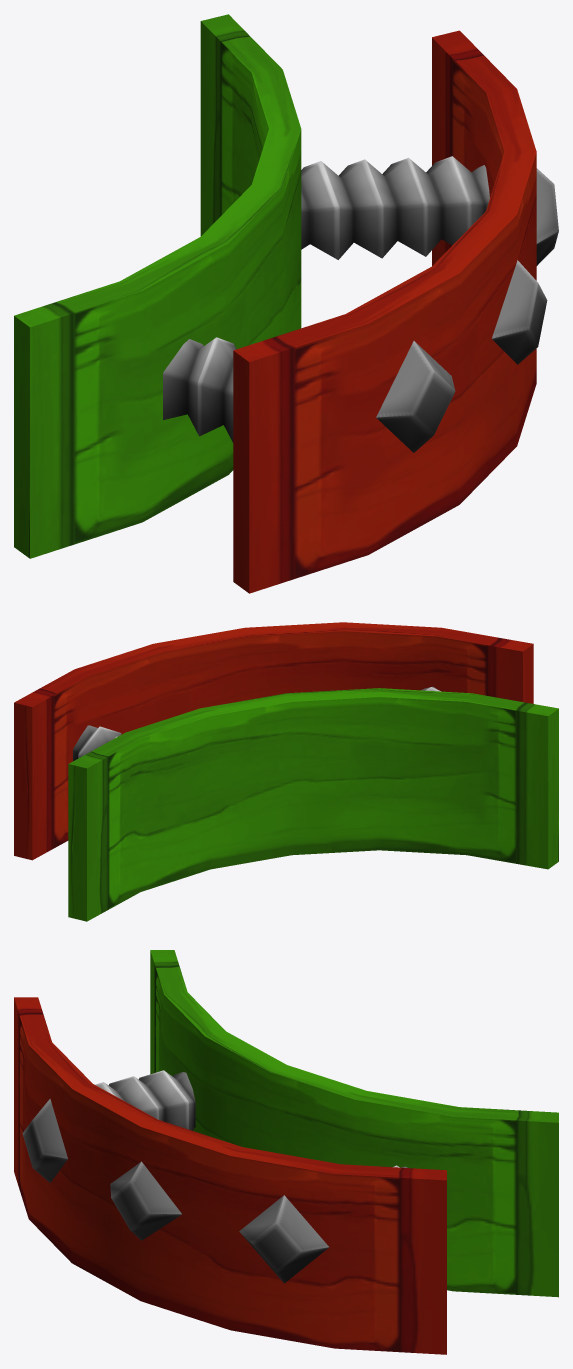
File: arched_fence_burger_02.fbx
3 renders of one model, top to bottom at view 1: azimuth 30°, elevation 25°; view 2: azimuth 150°, elevation 25°; view 3: azimuth 270°, elevation 25°, orthographic. The views are drawn at different scales.
Visible parts, largest first — view 1: arched_fence_burger_02; view 2: arched_fence_burger_02; view 3: arched_fence_burger_02.
Part boxes in pixels (x1,y1,x2,y2): arched_fence_burger_02: (14,14,558,593); arched_fence_burger_02: (14,622,558,921); arched_fence_burger_02: (14,950,558,1354).
Bounding box in the file's own units: 113 × 40 × 113.
